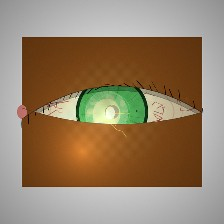corneal_ulcer: (82, 94, 131, 134)
